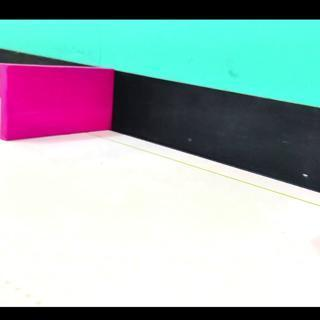xparking: (7, 69, 112, 141)
